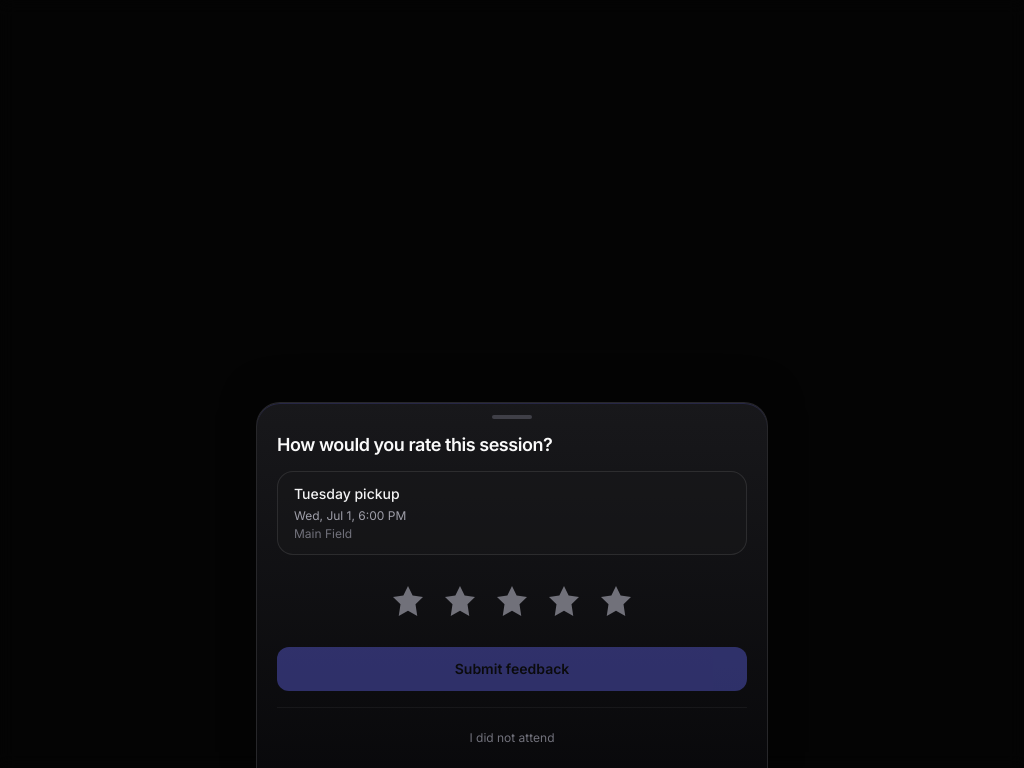
SessionFeedbackSheet › shows optional expanded comments for 5 stars
This screenshot has width=1024, height=768.
What coordinates should you click on to do the following:
click the radio button named "5 stars"
I would click on:
 (616, 601)
Its box is x1=594 y1=579 x2=638 y2=623.
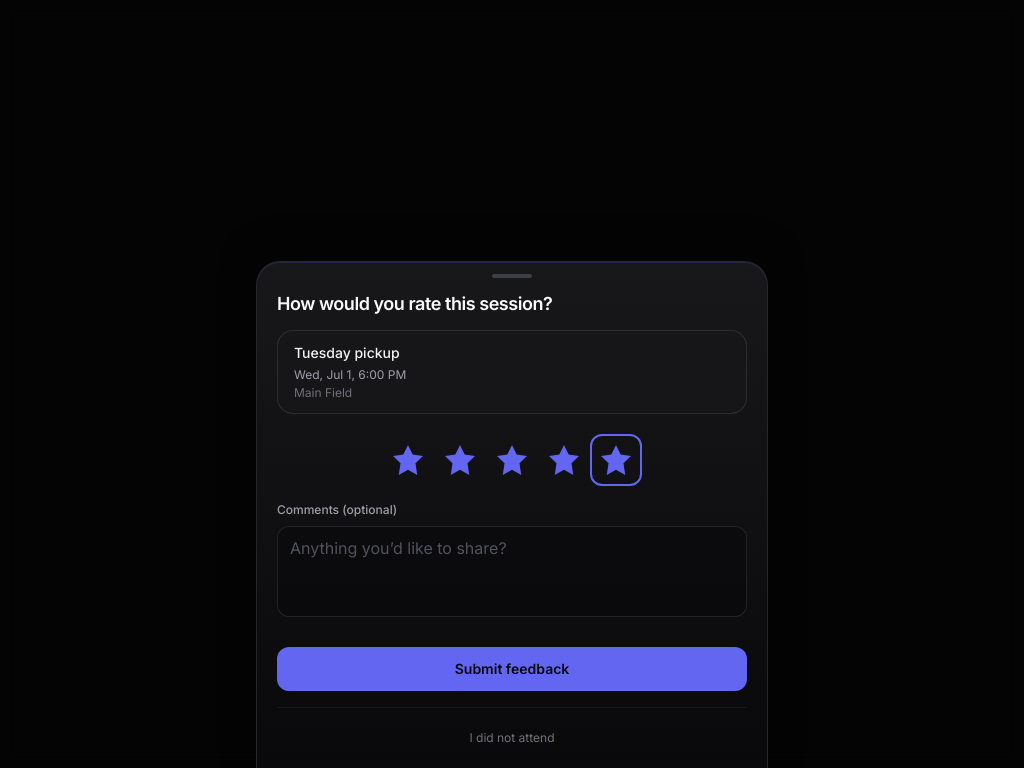
Expected: the text box labelled "Comments (optional)" is shown, x1=277 y1=526 x2=747 y2=617
Expected: the button "Submit feedback" is enabled, x1=277 y1=647 x2=747 y2=691
